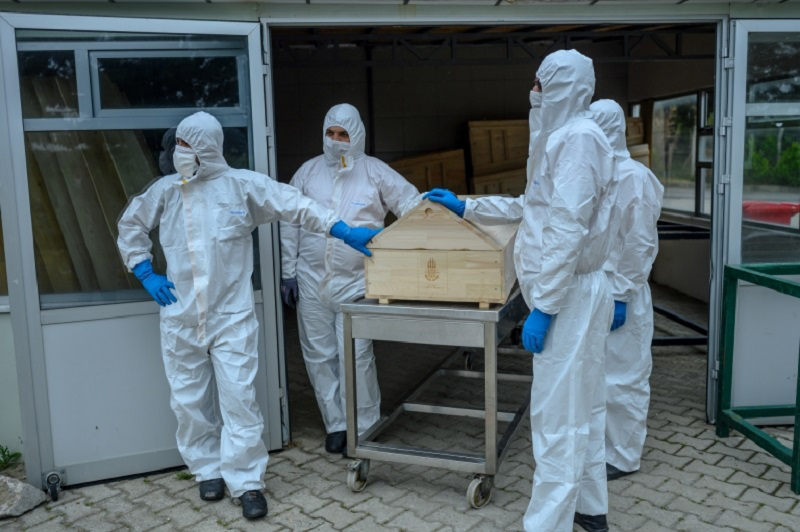Coverall: (128, 114, 283, 481), (513, 44, 610, 514), (281, 103, 386, 417), (604, 94, 666, 463)
Gloves: (326, 211, 389, 257), (130, 253, 180, 308), (519, 299, 559, 354), (422, 181, 470, 219)
with_mask: (171, 139, 199, 180), (322, 127, 352, 160)
